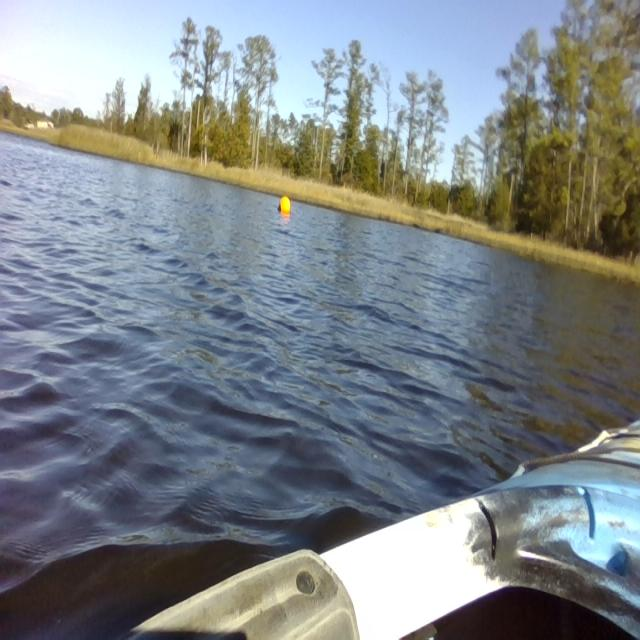Buoy: (277, 194, 293, 219)
